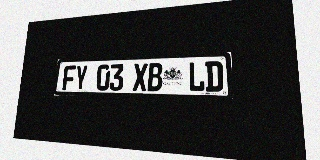0: (96, 64, 110, 91)
3: (109, 64, 124, 91)
B: (147, 63, 163, 91)
D: (205, 61, 223, 92)
F: (62, 65, 76, 90)
L: (188, 61, 205, 92)
X: (132, 63, 148, 91)
Y: (74, 65, 88, 90)
